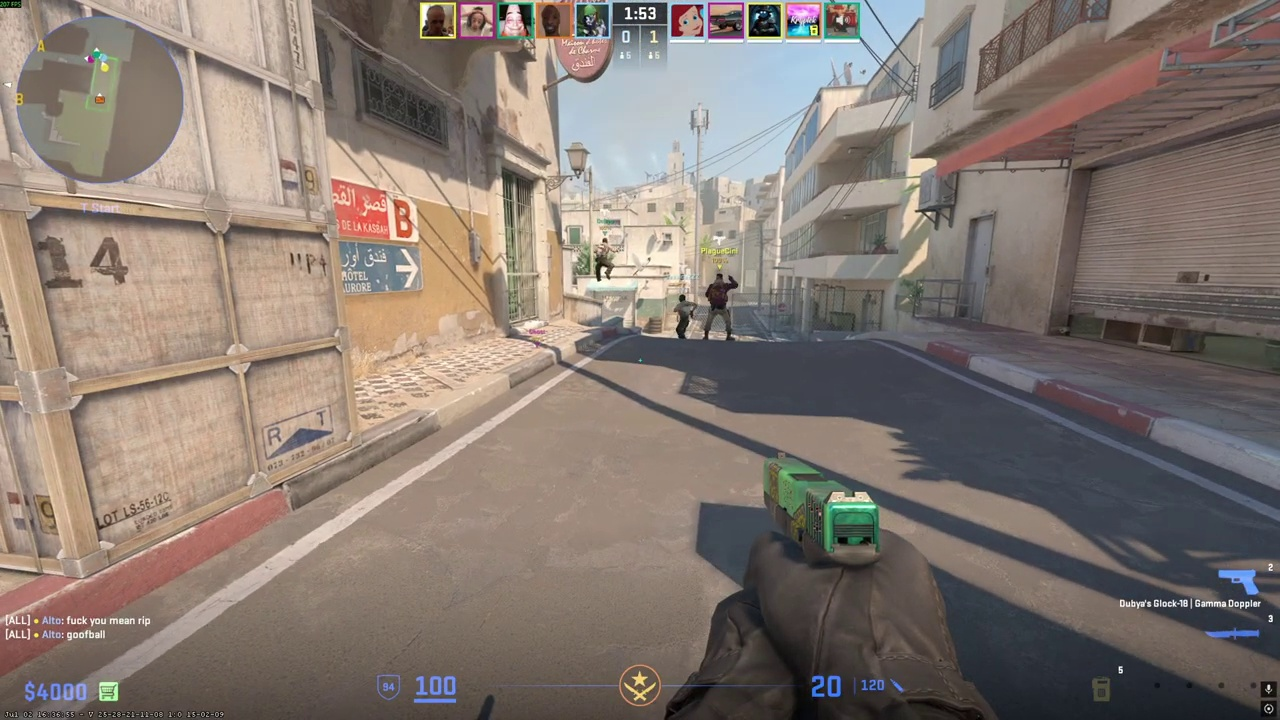Terrorist: (702, 273, 736, 341), (674, 294, 695, 339), (595, 238, 613, 282)
